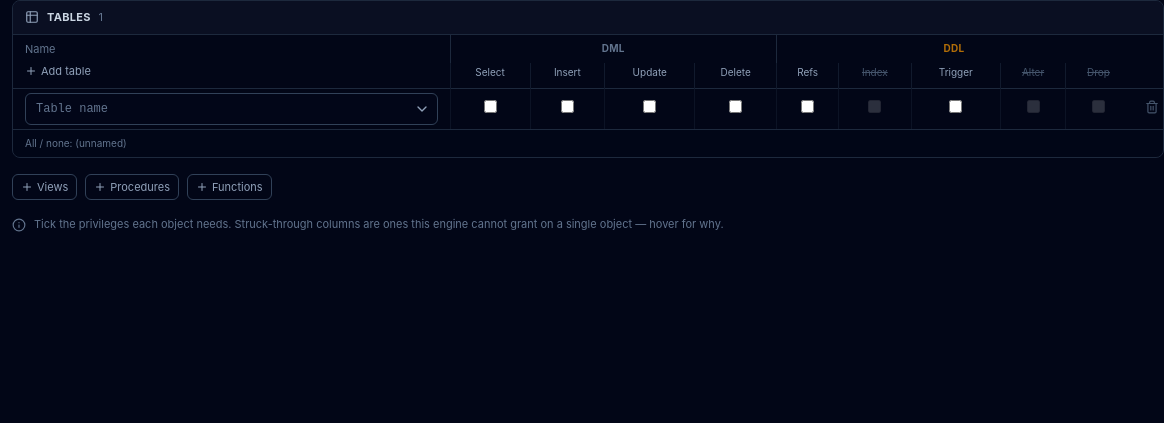
Test: routine rows › adds a procedure section with an Execute column
Click the button with test id "matrix-add-section-procedure".
click(132, 187)  # box [85,174,179,200]
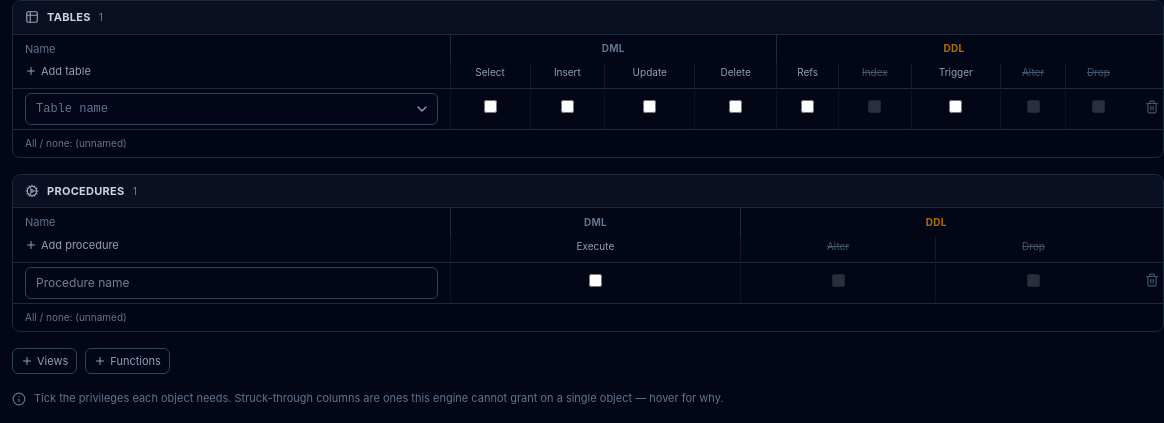
Now the element with test id "matrix-section-procedure" is shown, box [12,174,1163,332]
Now the button with test id "matrix-col-procedure-execute-procedure" is shown, box [454,239,736,254]
